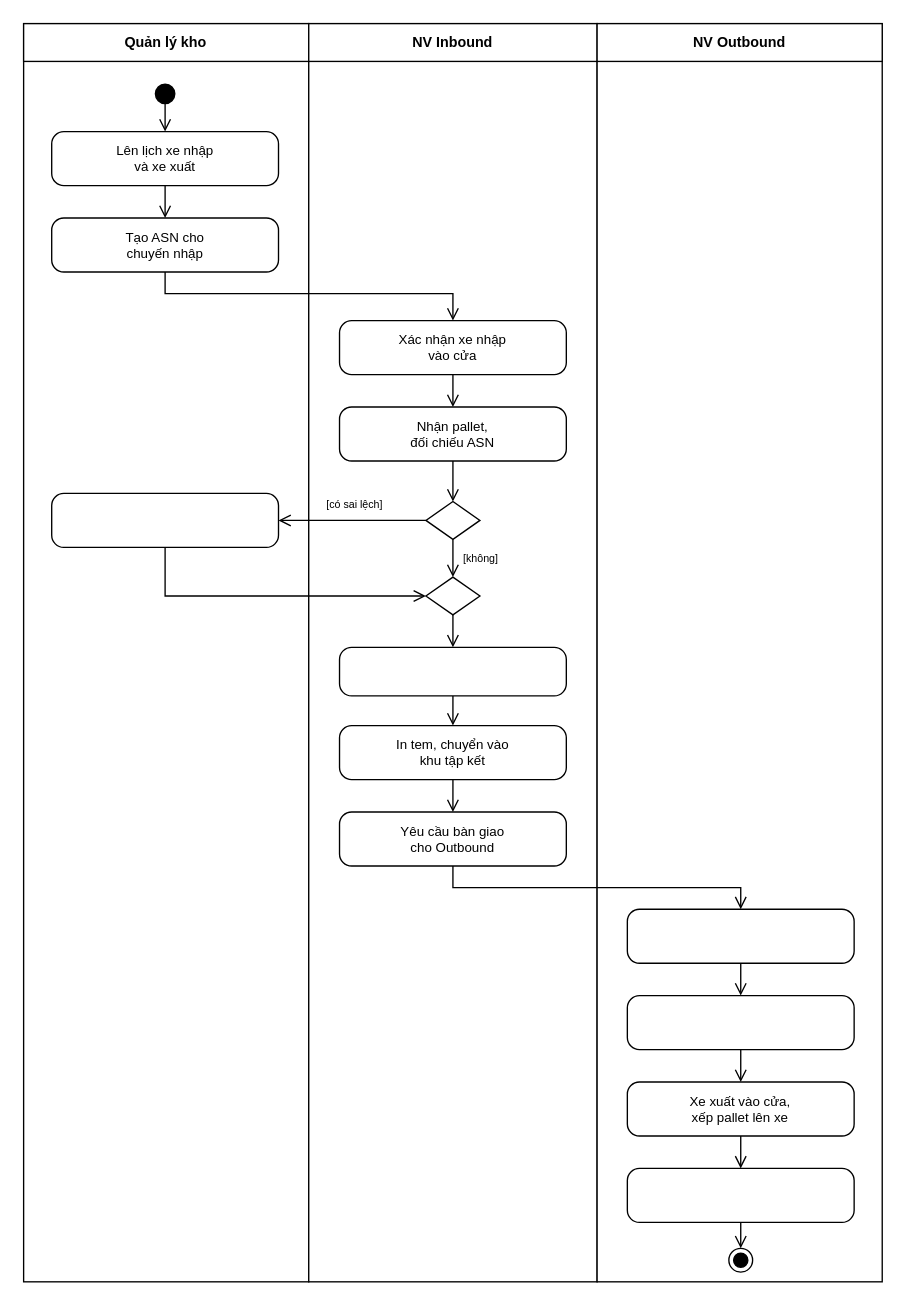
Some shapes in this 906 by 1305 pixel diagram are drawn without their labels. Each missing label, with the centre of its shape:
Chốt nhận hàng: (x=452, y=671)
Ghi nhận, xử lý ngoại lệ: (x=164, y=519)
Gán pallet vào chuyến xuất: (x=740, y=1022)
Niêm phong, xác nhận xuất bến: (x=740, y=1194)
Xác nhận nhận bàn giao: (x=740, y=935)
